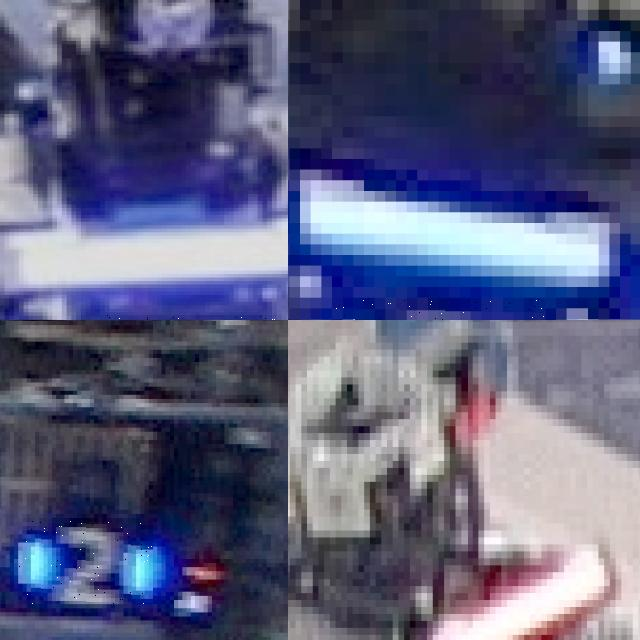B2: (18, 518, 153, 604)
